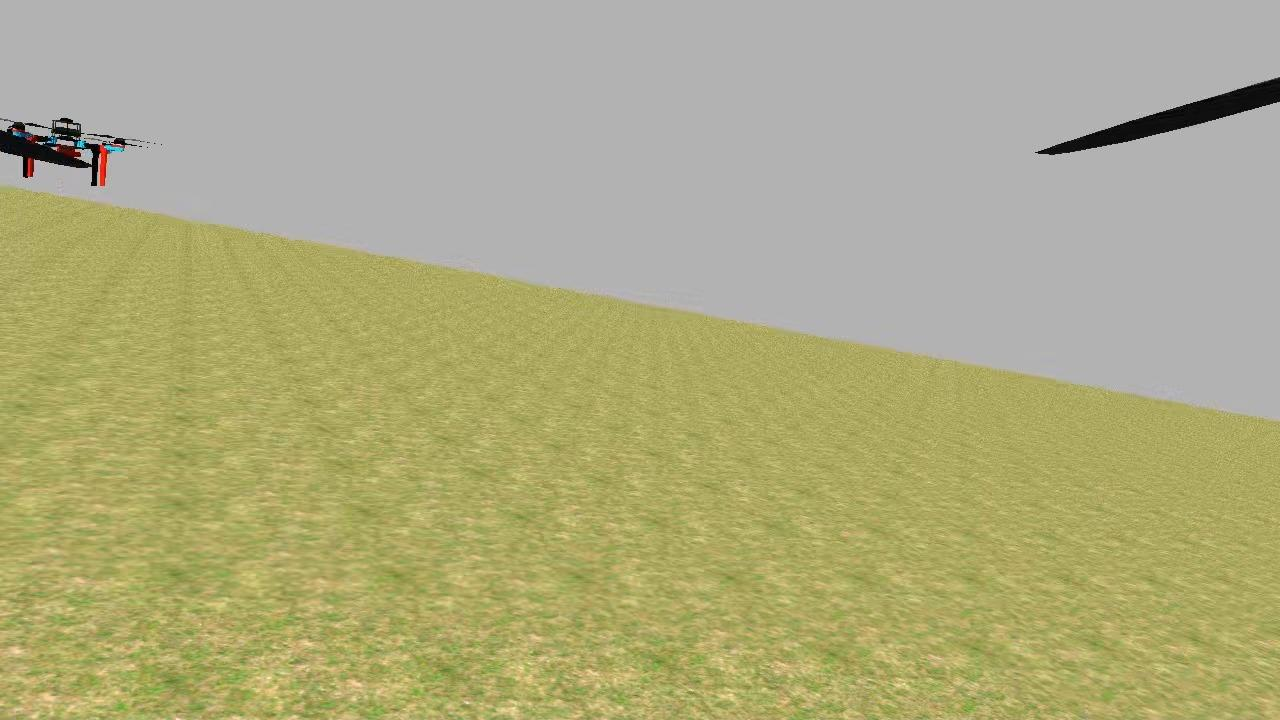UAV: (0, 106, 123, 200)
